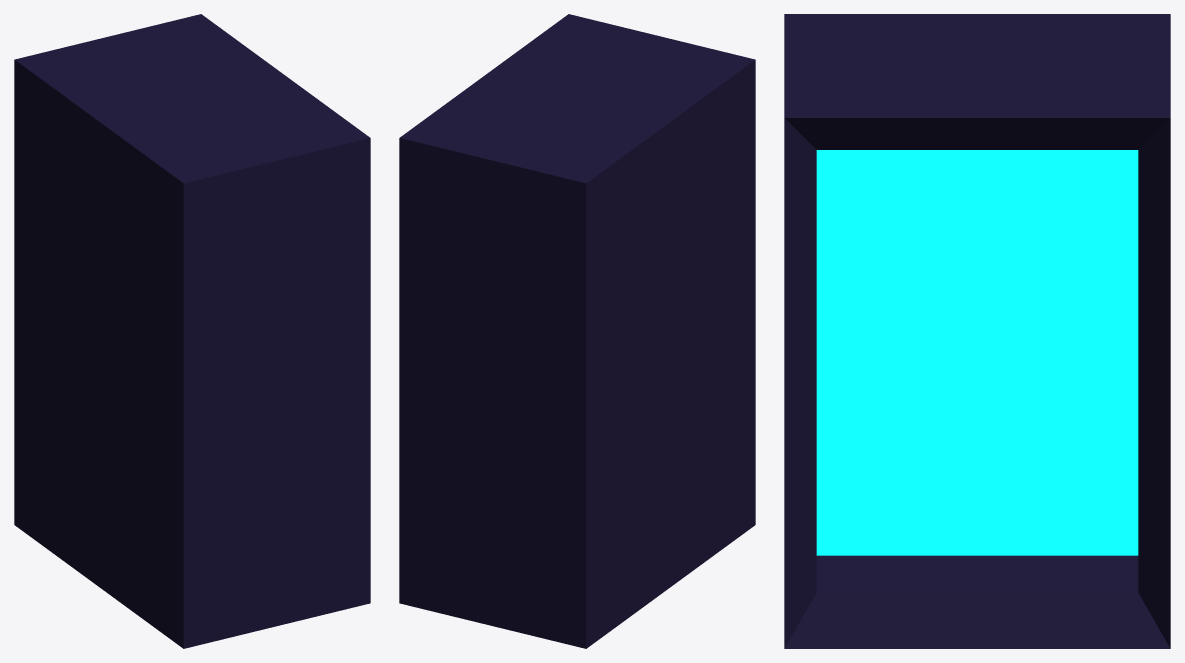
File: portal.fbx
3 renders of one model, left to right at view 1: azimuth 30°, elevation 25°; view 2: azimuth 150°, elevation 25°; view 3: azimuth 270°, elevation 25°, orthographic. The views are drawn at different scales.
Parts seen in each view (by area): view 1: Cube.001; view 2: Cube.001; view 3: Cube.001.
Boxes of the visible parts, left/top/right/bottom form: Cube.001: left=14, top=14, right=370, bottom=648; Cube.001: left=399, top=14, right=755, bottom=648; Cube.001: left=784, top=14, right=1170, bottom=648.
Bounding box in the file's own units: 178 × 425 × 280.
